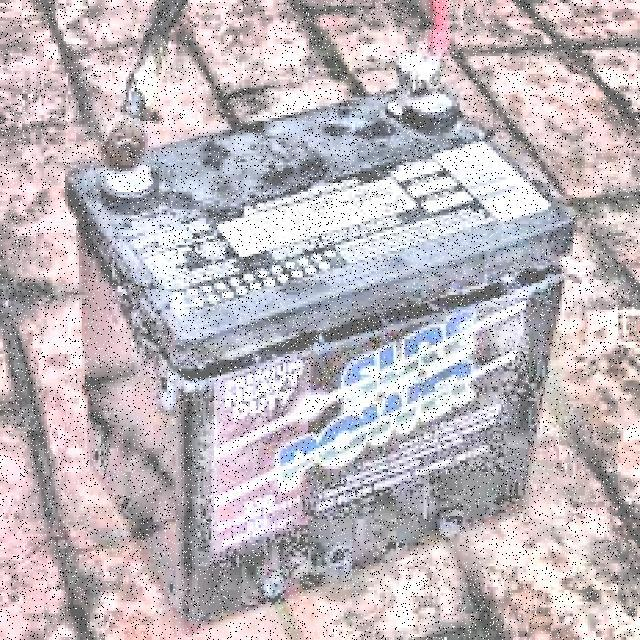B3: (53, 99, 579, 634)
